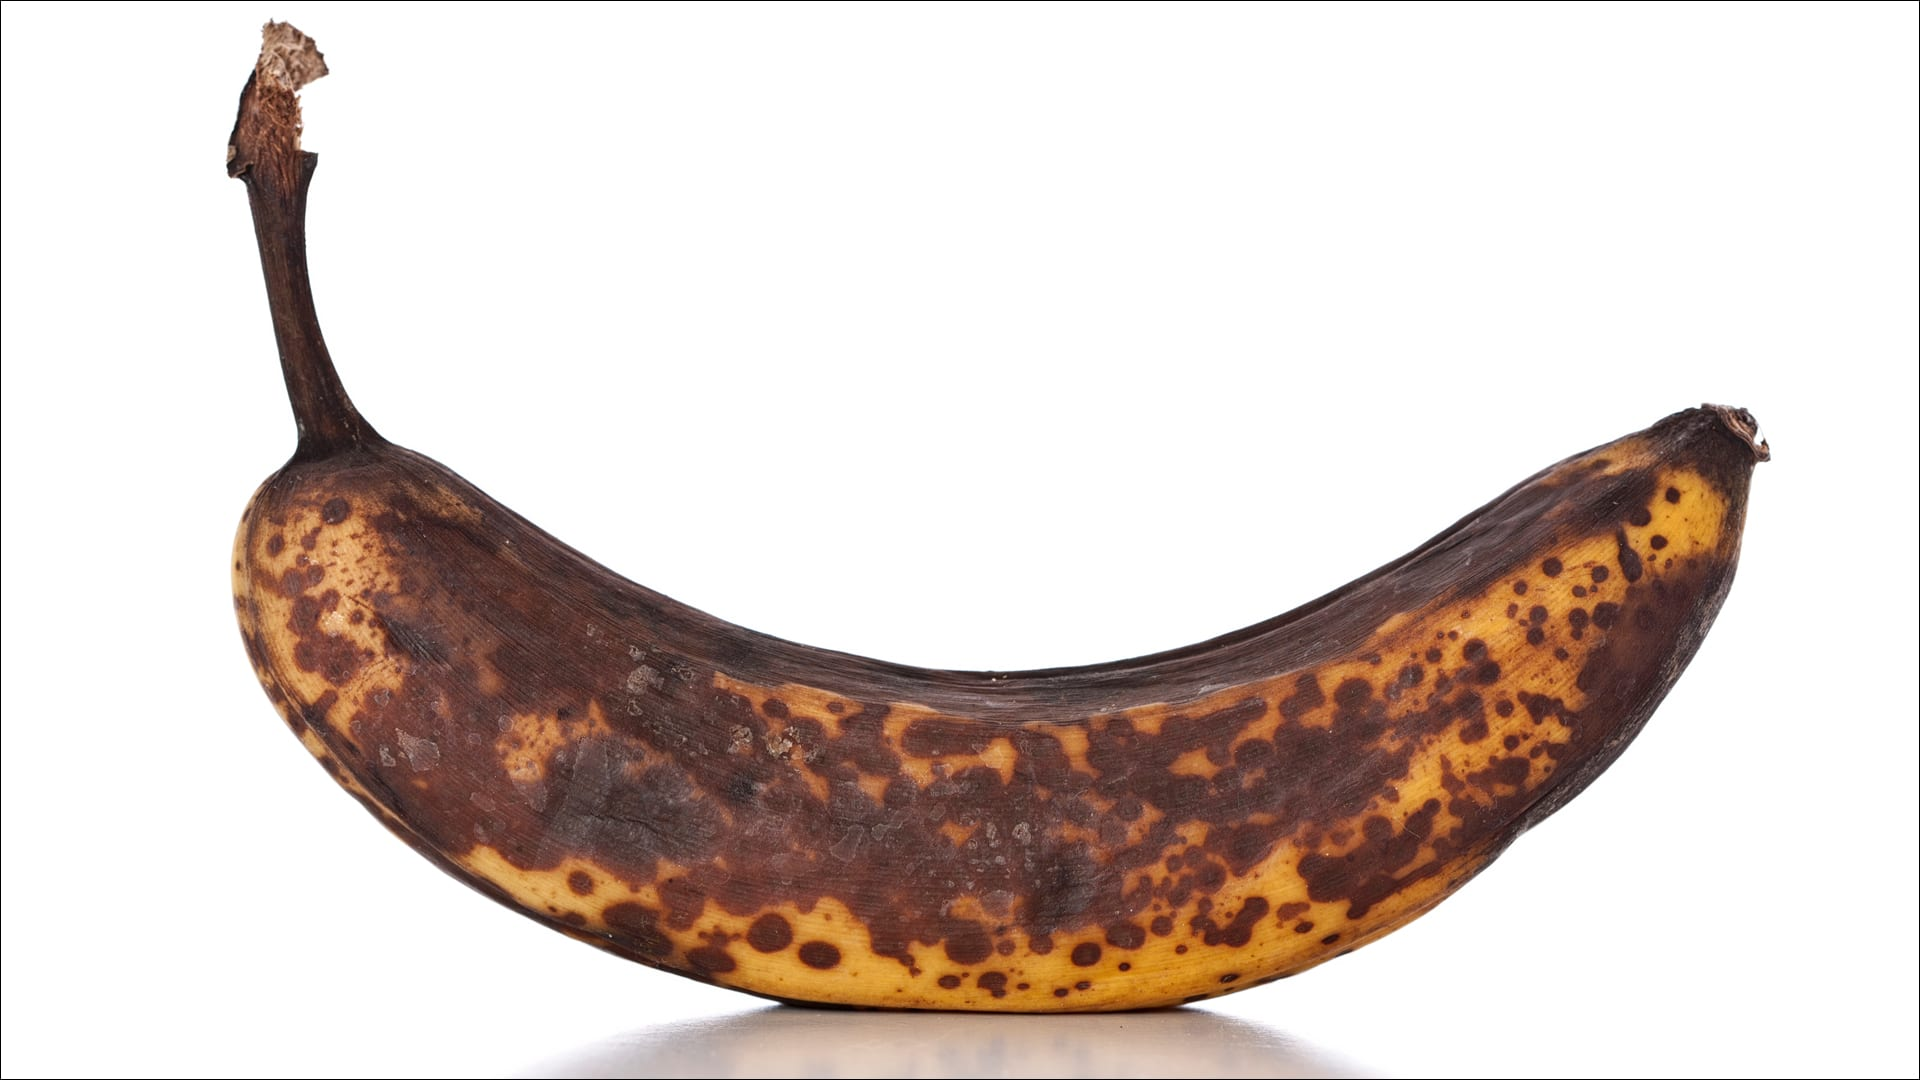damaged_banana: (204, 386, 1747, 1021)
